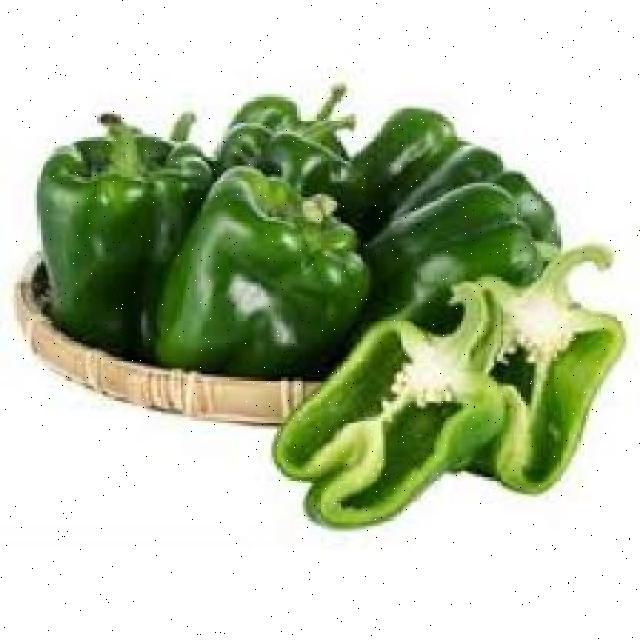Capsicum: (274, 277, 520, 532)
